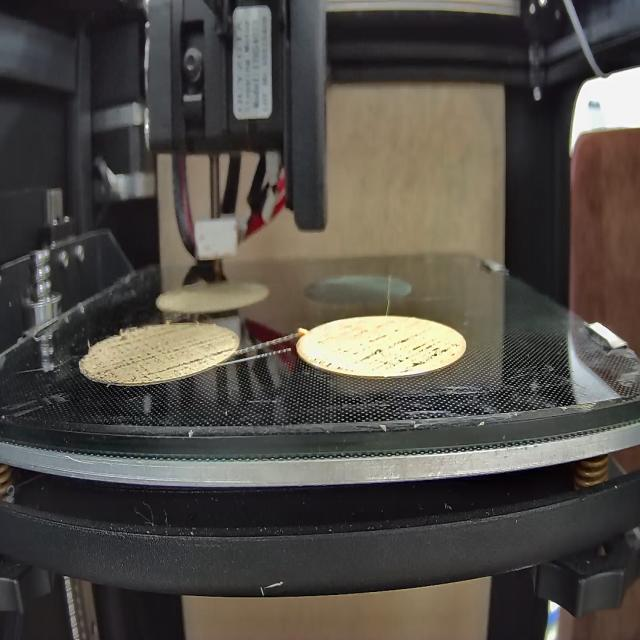under_extrusion: (95, 331, 238, 385), (314, 331, 460, 374)
